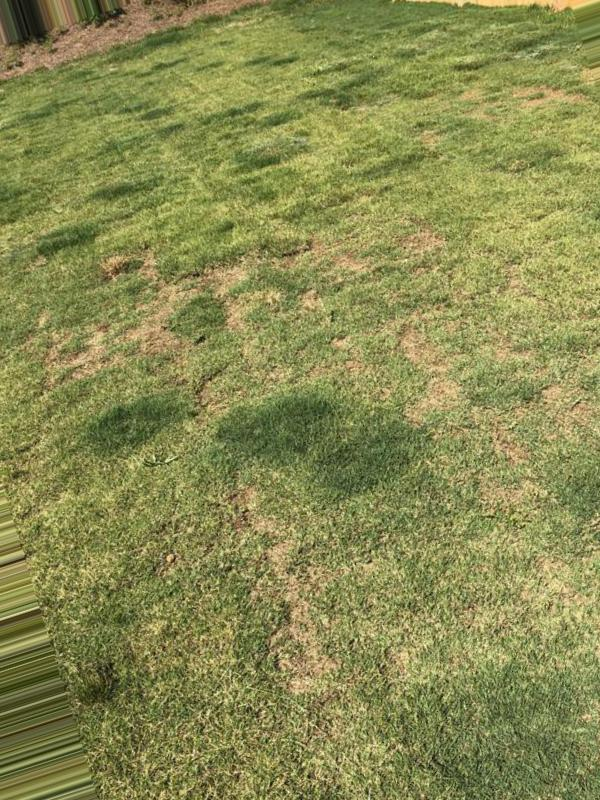patch: (398, 322, 479, 431), (118, 285, 210, 365), (214, 263, 342, 315), (276, 600, 329, 678)
